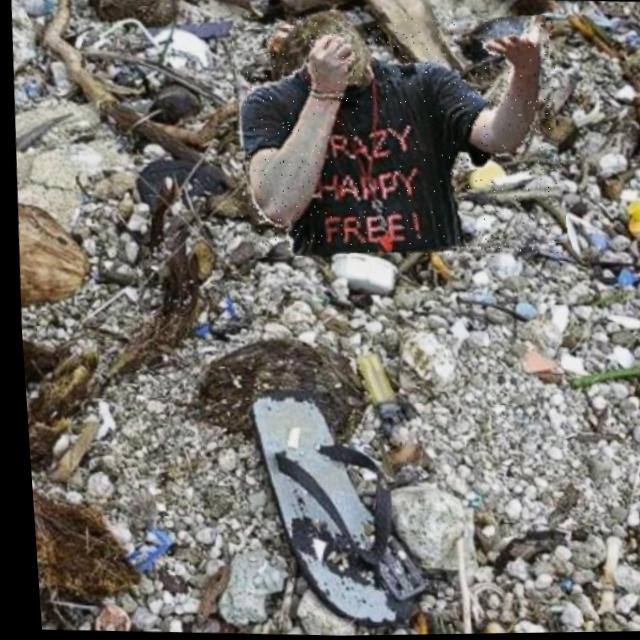Person in Rubble: (225, 12, 569, 264)
